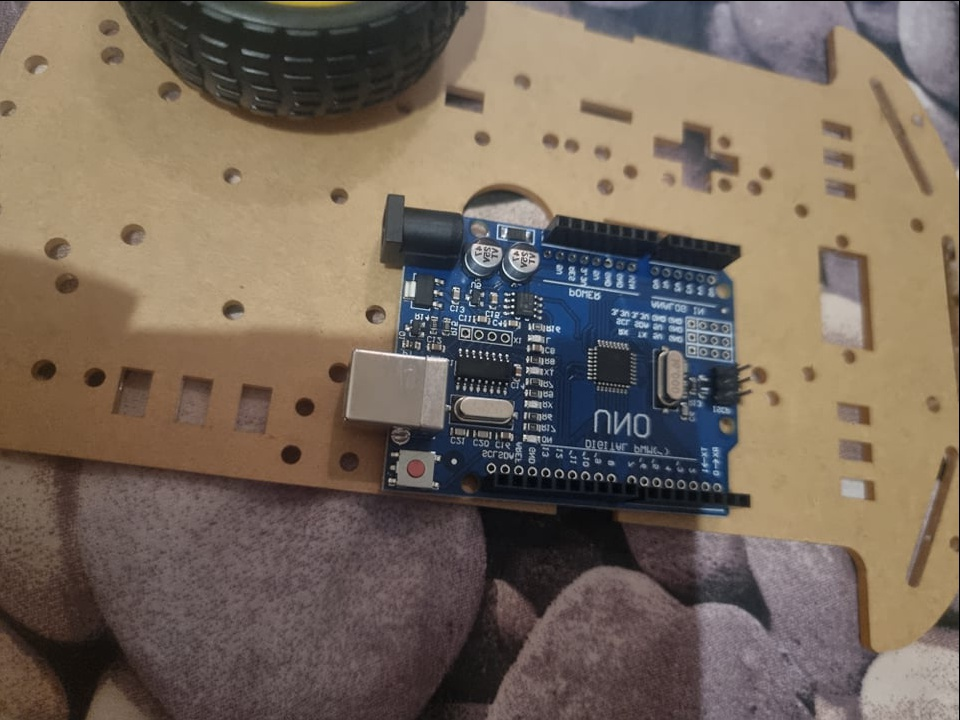UNO R3: (344, 191, 742, 517)
